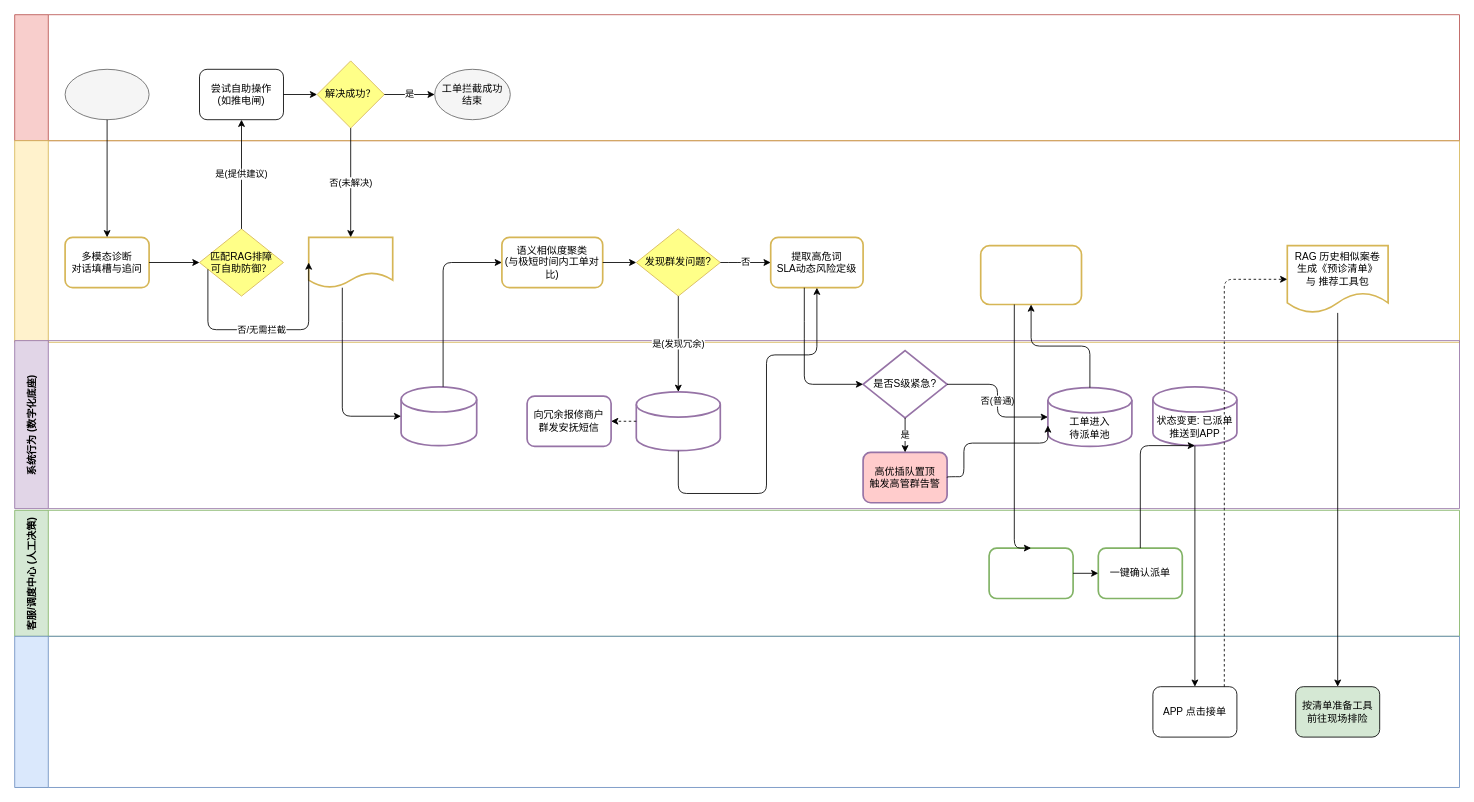
Some shapes in this 1474 by 802 pixel diagram are drawn without their labels. Here are the shapes that lost their labels. From the top down, the box of each, then its label:
(64, 68, 149, 120): 语音/文字/照片 描述报修问题
(14, 14, 1460, 141): 商户/提单方 (问题发起)
(14, 140, 1460, 342): AI 能力端 (智能大脑)
(307, 236, 393, 288): 输出 100% 结构化 JSON 工单数据
(979, 244, 1082, 305): 触发 Function Calling (查位置/负载/技能) 生成Top 3推荐卡片
(400, 386, 477, 446): 生成并入库 普通报修工单
(635, 391, 721, 451): 洗单合并为一张: 【母事件工单】
(988, 547, 1074, 599): 查看 AI 推荐卡片 确认最佳人选
(14, 635, 1460, 788): 工程师端 (接单与备战)
